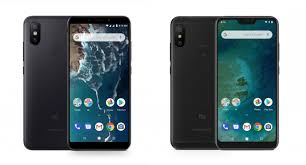mi: (67, 12, 134, 151), (213, 13, 280, 152)
